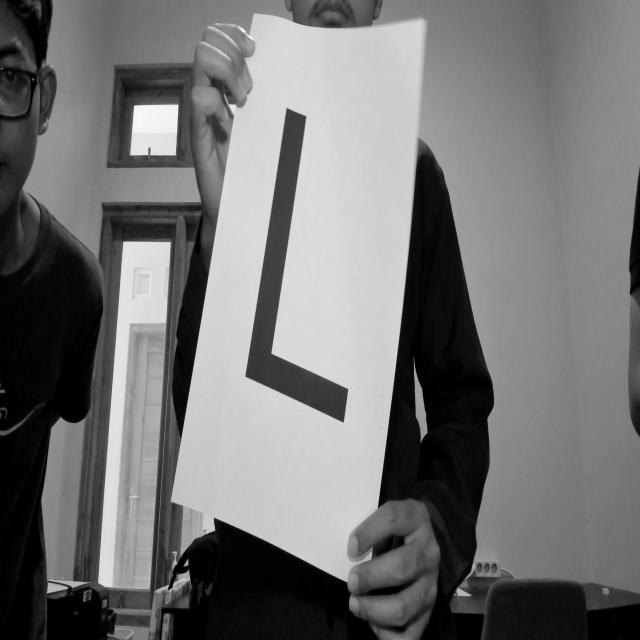l: (230, 79, 368, 434)
